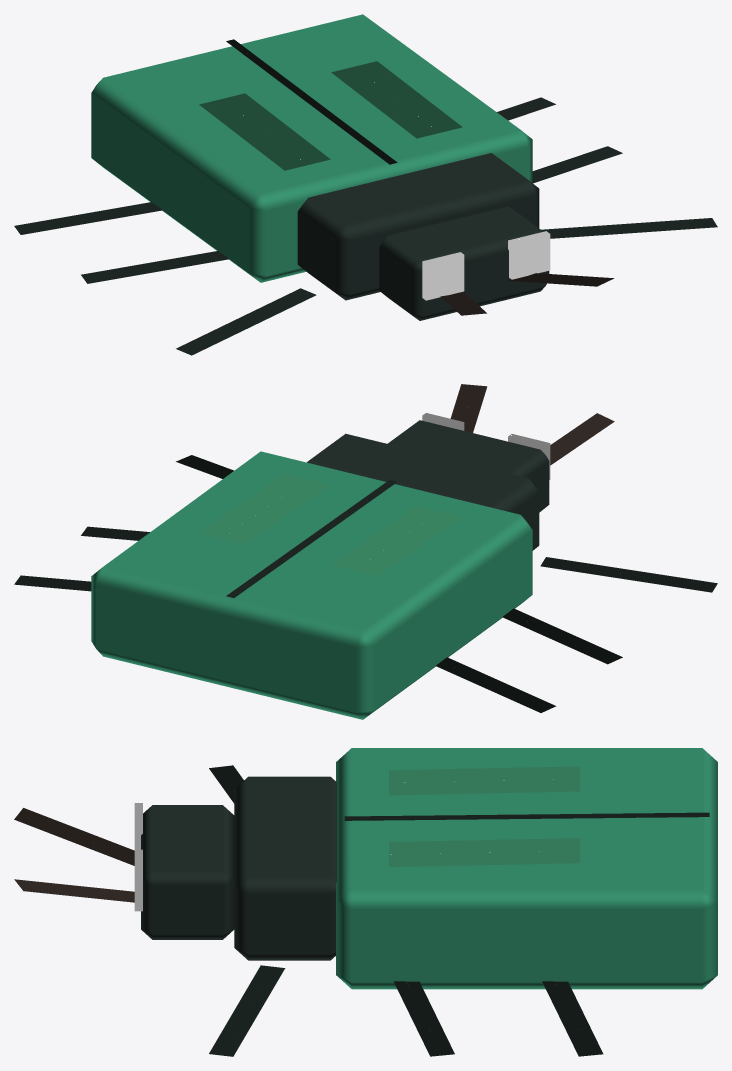
File: beetle_lod2.glb
3 views of the same model, one above another, from view 1: azimuth 30°, elevation 25°; view 2: azimuth 150°, elevation 25°; view 3: azimuth 270°, elevation 25° (orthographic). The views are drawn at different scales.
Parts seen in each view (by area): view 1: Geo_Beetle; view 2: Geo_Beetle; view 3: Geo_Beetle.
Boxes of the visible parts, x1,y1,x2,y2 form: Geo_Beetle: (14,14,717,355); Geo_Beetle: (14,384,717,719); Geo_Beetle: (14,748,717,1056).
Size of the model in its own units: 87.51 by 14.53 by 89.31.
Materials: 1 (1 with a texture image).
